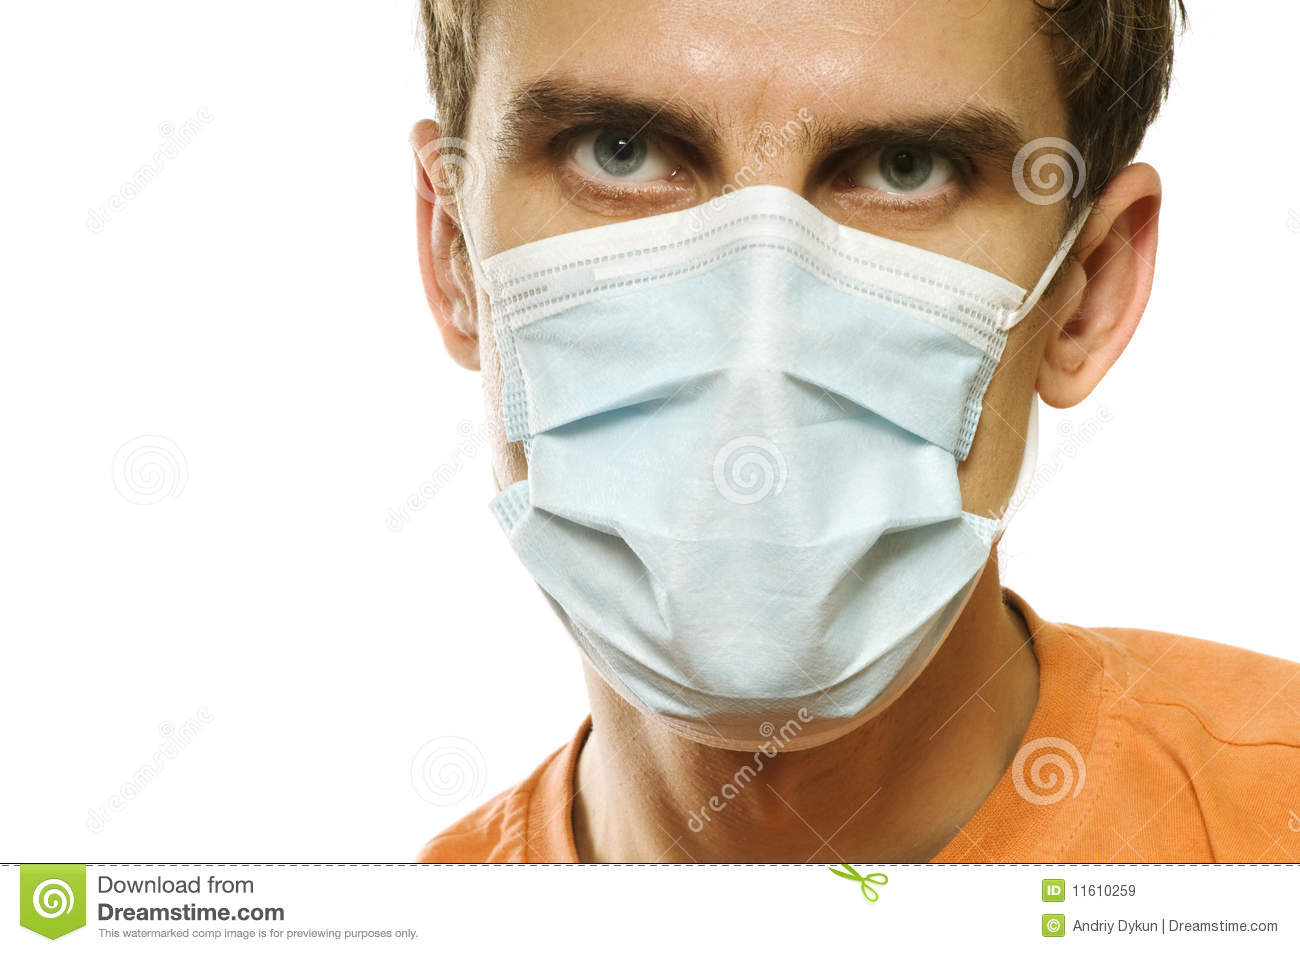mask: (485, 189, 1023, 739)
